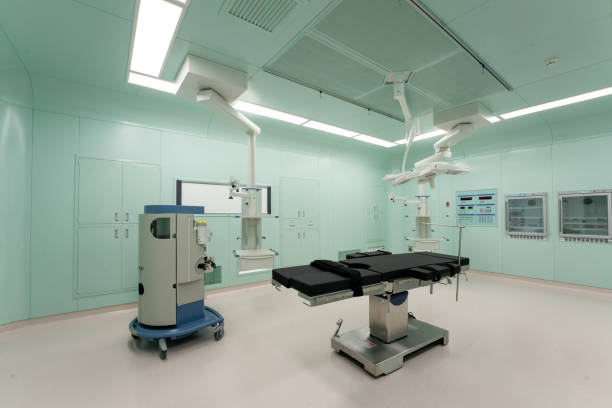handle: (111, 211, 119, 221), (114, 228, 119, 238), (124, 229, 129, 239), (124, 212, 129, 222)
operating_bed: (270, 251, 470, 376)
surgical_light: (377, 156, 473, 192)
ventilator: (127, 202, 228, 359)
